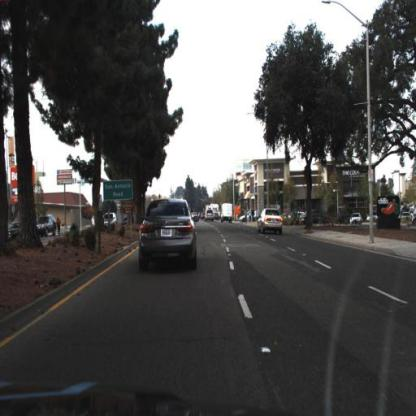car: (139, 198, 201, 270), (258, 206, 285, 239), (36, 213, 57, 240), (219, 200, 237, 226), (103, 211, 119, 231), (203, 208, 219, 226), (349, 210, 365, 227), (8, 222, 22, 241), (351, 212, 363, 228)
pedestrian: (56, 217, 62, 237)
truck: (221, 204, 234, 225)
